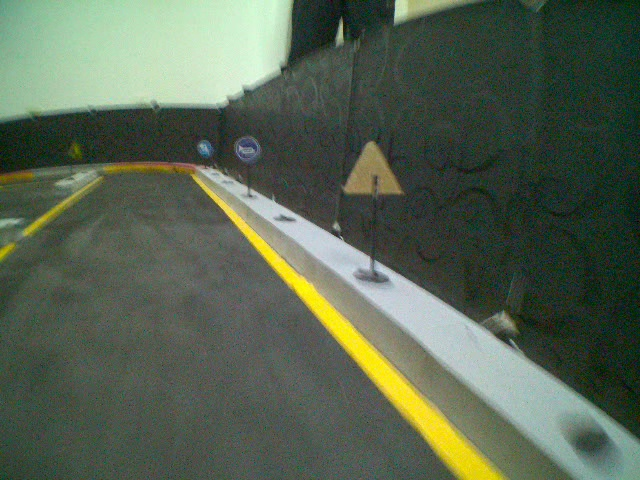horn: (233, 136, 259, 164)
